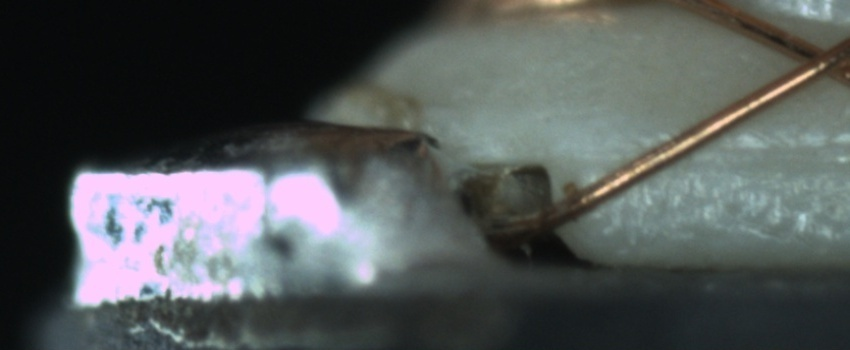CL: (774, 26, 847, 91)
DL: (614, 118, 846, 190)
